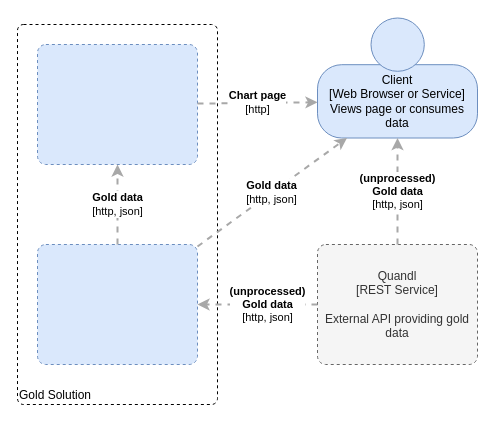
This 495x422 diagram has some shape labels left out. The centre of each missing label's shape, as x and y in pixels:
Gold Backend [REST Service] API providing gold data: the point at 117,304
Gold Frontend [Web Application] Chart displaying gold data prices history: the point at 117,104
